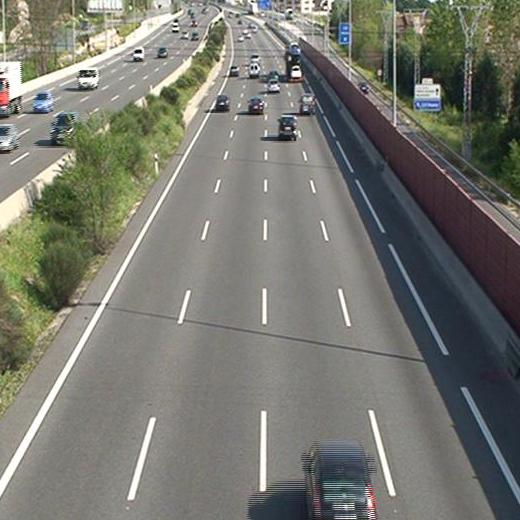car: (306, 445, 375, 520), (278, 116, 298, 138), (247, 98, 265, 112), (216, 93, 229, 110), (287, 43, 300, 55), (267, 80, 279, 91), (290, 65, 300, 77), (229, 65, 240, 74)
van: (301, 95, 314, 113), (248, 63, 259, 78)
